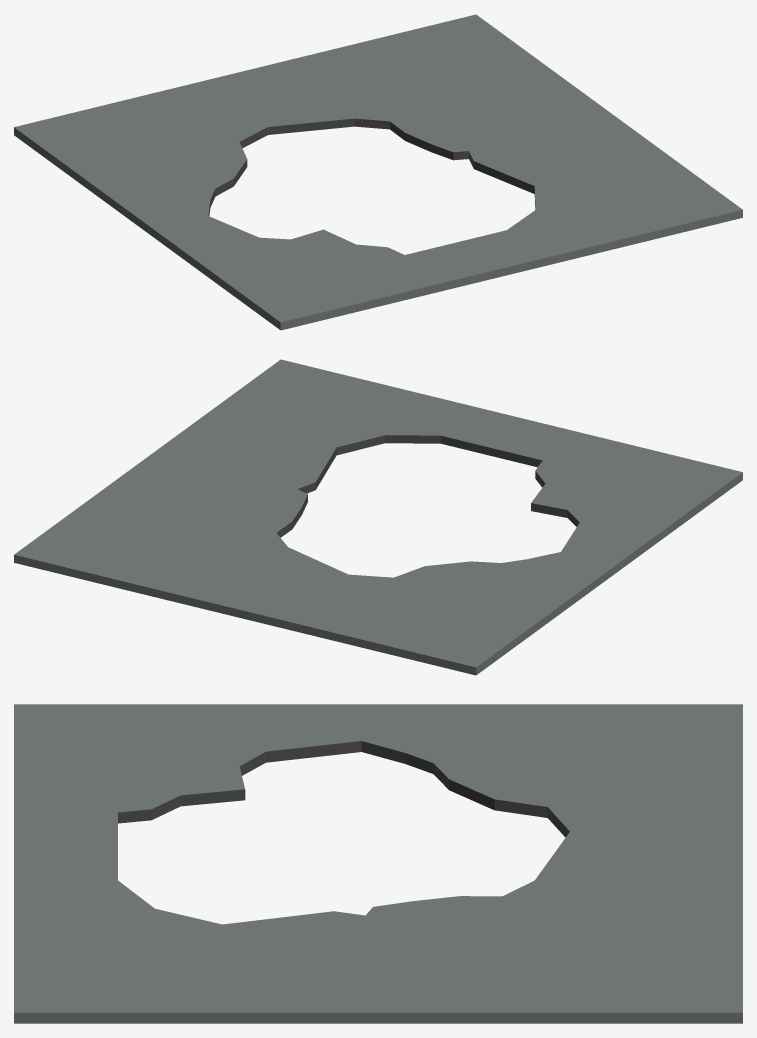
The model's file is SM_Floor_Broken_3x3_B.fbx.
3 renders of one model, top to bottom at view 1: azimuth 30°, elevation 25°; view 2: azimuth 150°, elevation 25°; view 3: azimuth 270°, elevation 25°, orthographic. The views are drawn at different scales.
Visible parts, largest first — view 1: SM_Floor_Broken_3x3_B; view 2: SM_Floor_Broken_3x3_B; view 3: SM_Floor_Broken_3x3_B.
Boxes of the visible parts, x1=… form: SM_Floor_Broken_3x3_B: x1=14, y1=14, x2=742, y2=330; SM_Floor_Broken_3x3_B: x1=14, y1=359, x2=742, y2=675; SM_Floor_Broken_3x3_B: x1=14, y1=704, x2=742, y2=1023.
Size of the model in its own units: 300 by 5 by 300.
